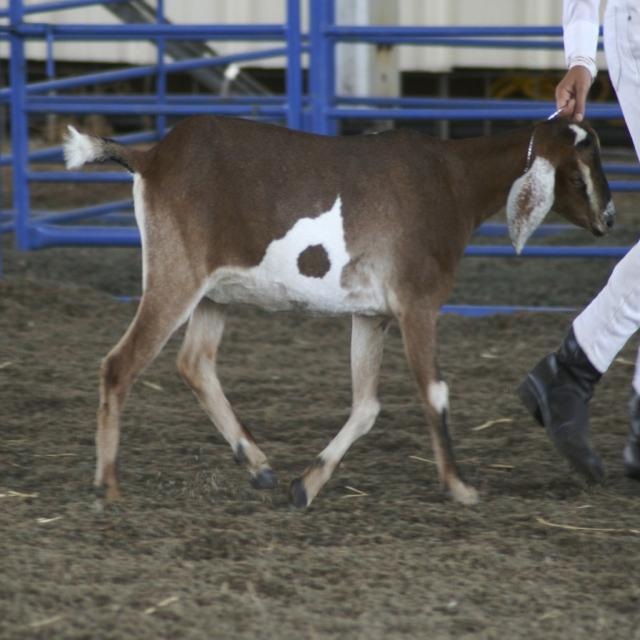Cattle: (60, 110, 616, 508)
